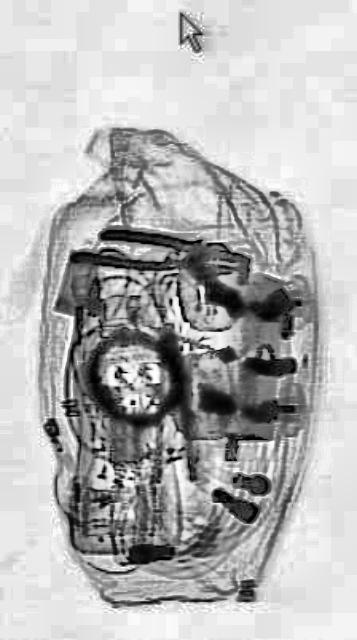Pliers: (68, 221, 250, 281)
